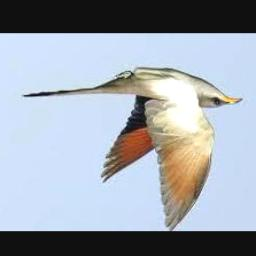Cuckoo: (23, 69, 241, 231)
